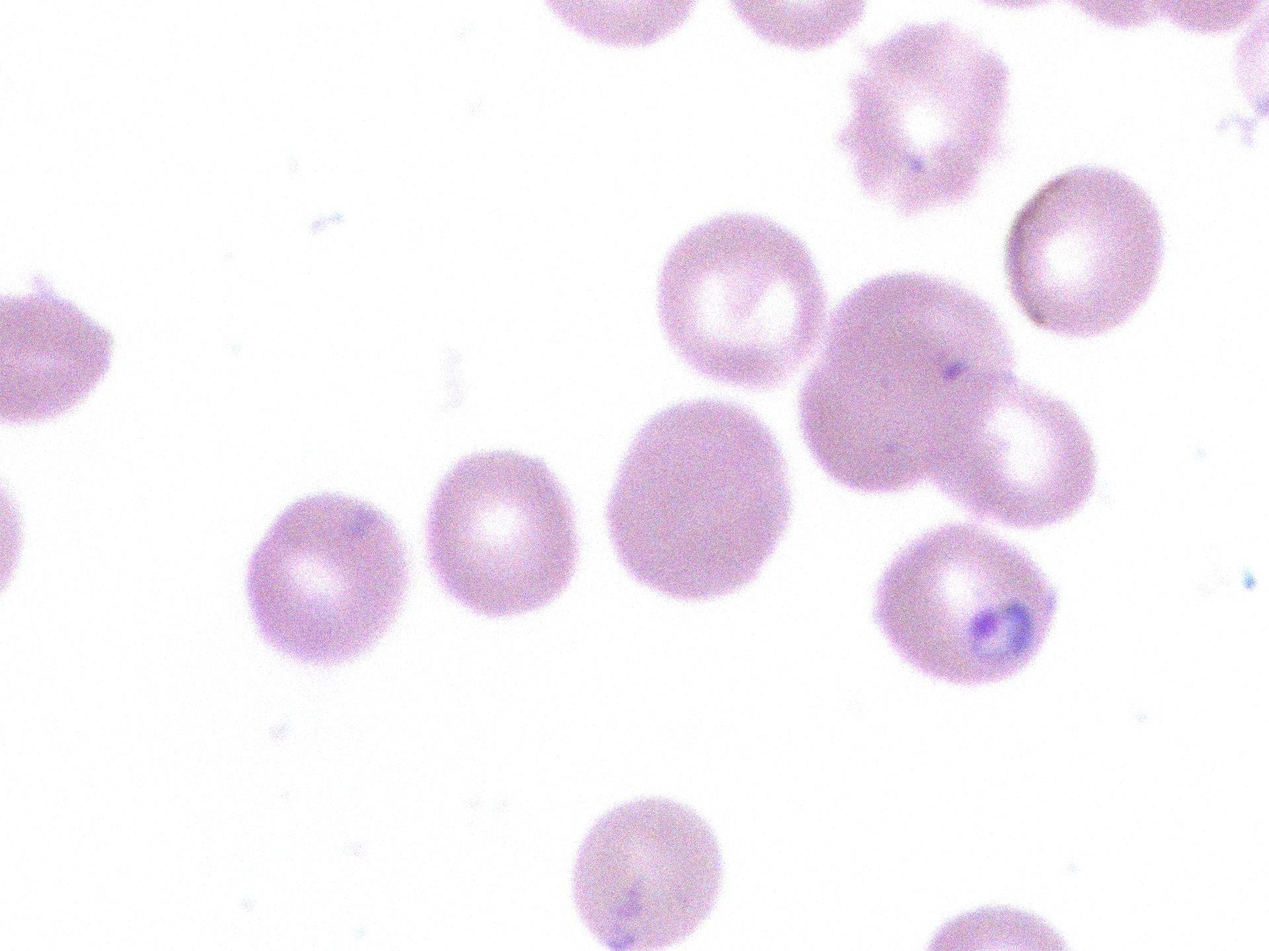Infected: (874, 529, 1056, 688)
Uninfected: (804, 269, 1007, 495), (611, 399, 785, 599), (833, 22, 1009, 219), (659, 210, 821, 390), (248, 493, 407, 665), (1005, 162, 1163, 335), (428, 445, 582, 612), (939, 370, 1098, 529), (573, 801, 719, 950), (0, 293, 118, 431)
